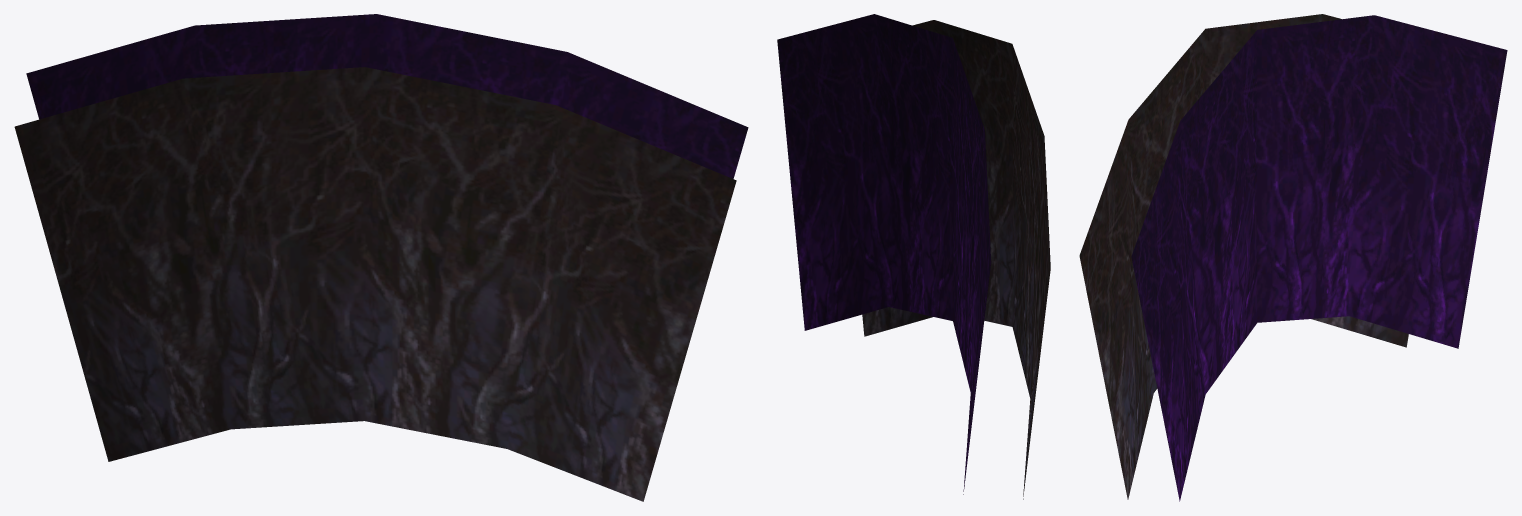
File: EKH_ENTRANCE_PS_EN_TREE_LINE939837.fbx
3 views of the same model, side by side, from view 1: azimuth 30°, elevation 25°; view 2: azimuth 150°, elevation 25°; view 3: azimuth 270°, elevation 25° (orthographic). The views are drawn at different scales.
Visible parts, largest first — view 1: EKH_ENTRANCE_PS_EN_TREE_LINE939837; view 2: EKH_ENTRANCE_PS_EN_TREE_LINE939837; view 3: EKH_ENTRANCE_PS_EN_TREE_LINE939837.
Part boxes in pixels (x1=…): EKH_ENTRANCE_PS_EN_TREE_LINE939837: x1=14, y1=14, x2=748, y2=501; EKH_ENTRANCE_PS_EN_TREE_LINE939837: x1=777, y1=14, x2=1050, y2=499; EKH_ENTRANCE_PS_EN_TREE_LINE939837: x1=1079, y1=14, x2=1507, y2=501.
Size of the model in its own units: 221769 by 187806 by 184615.
2 materials, 2 textured.
